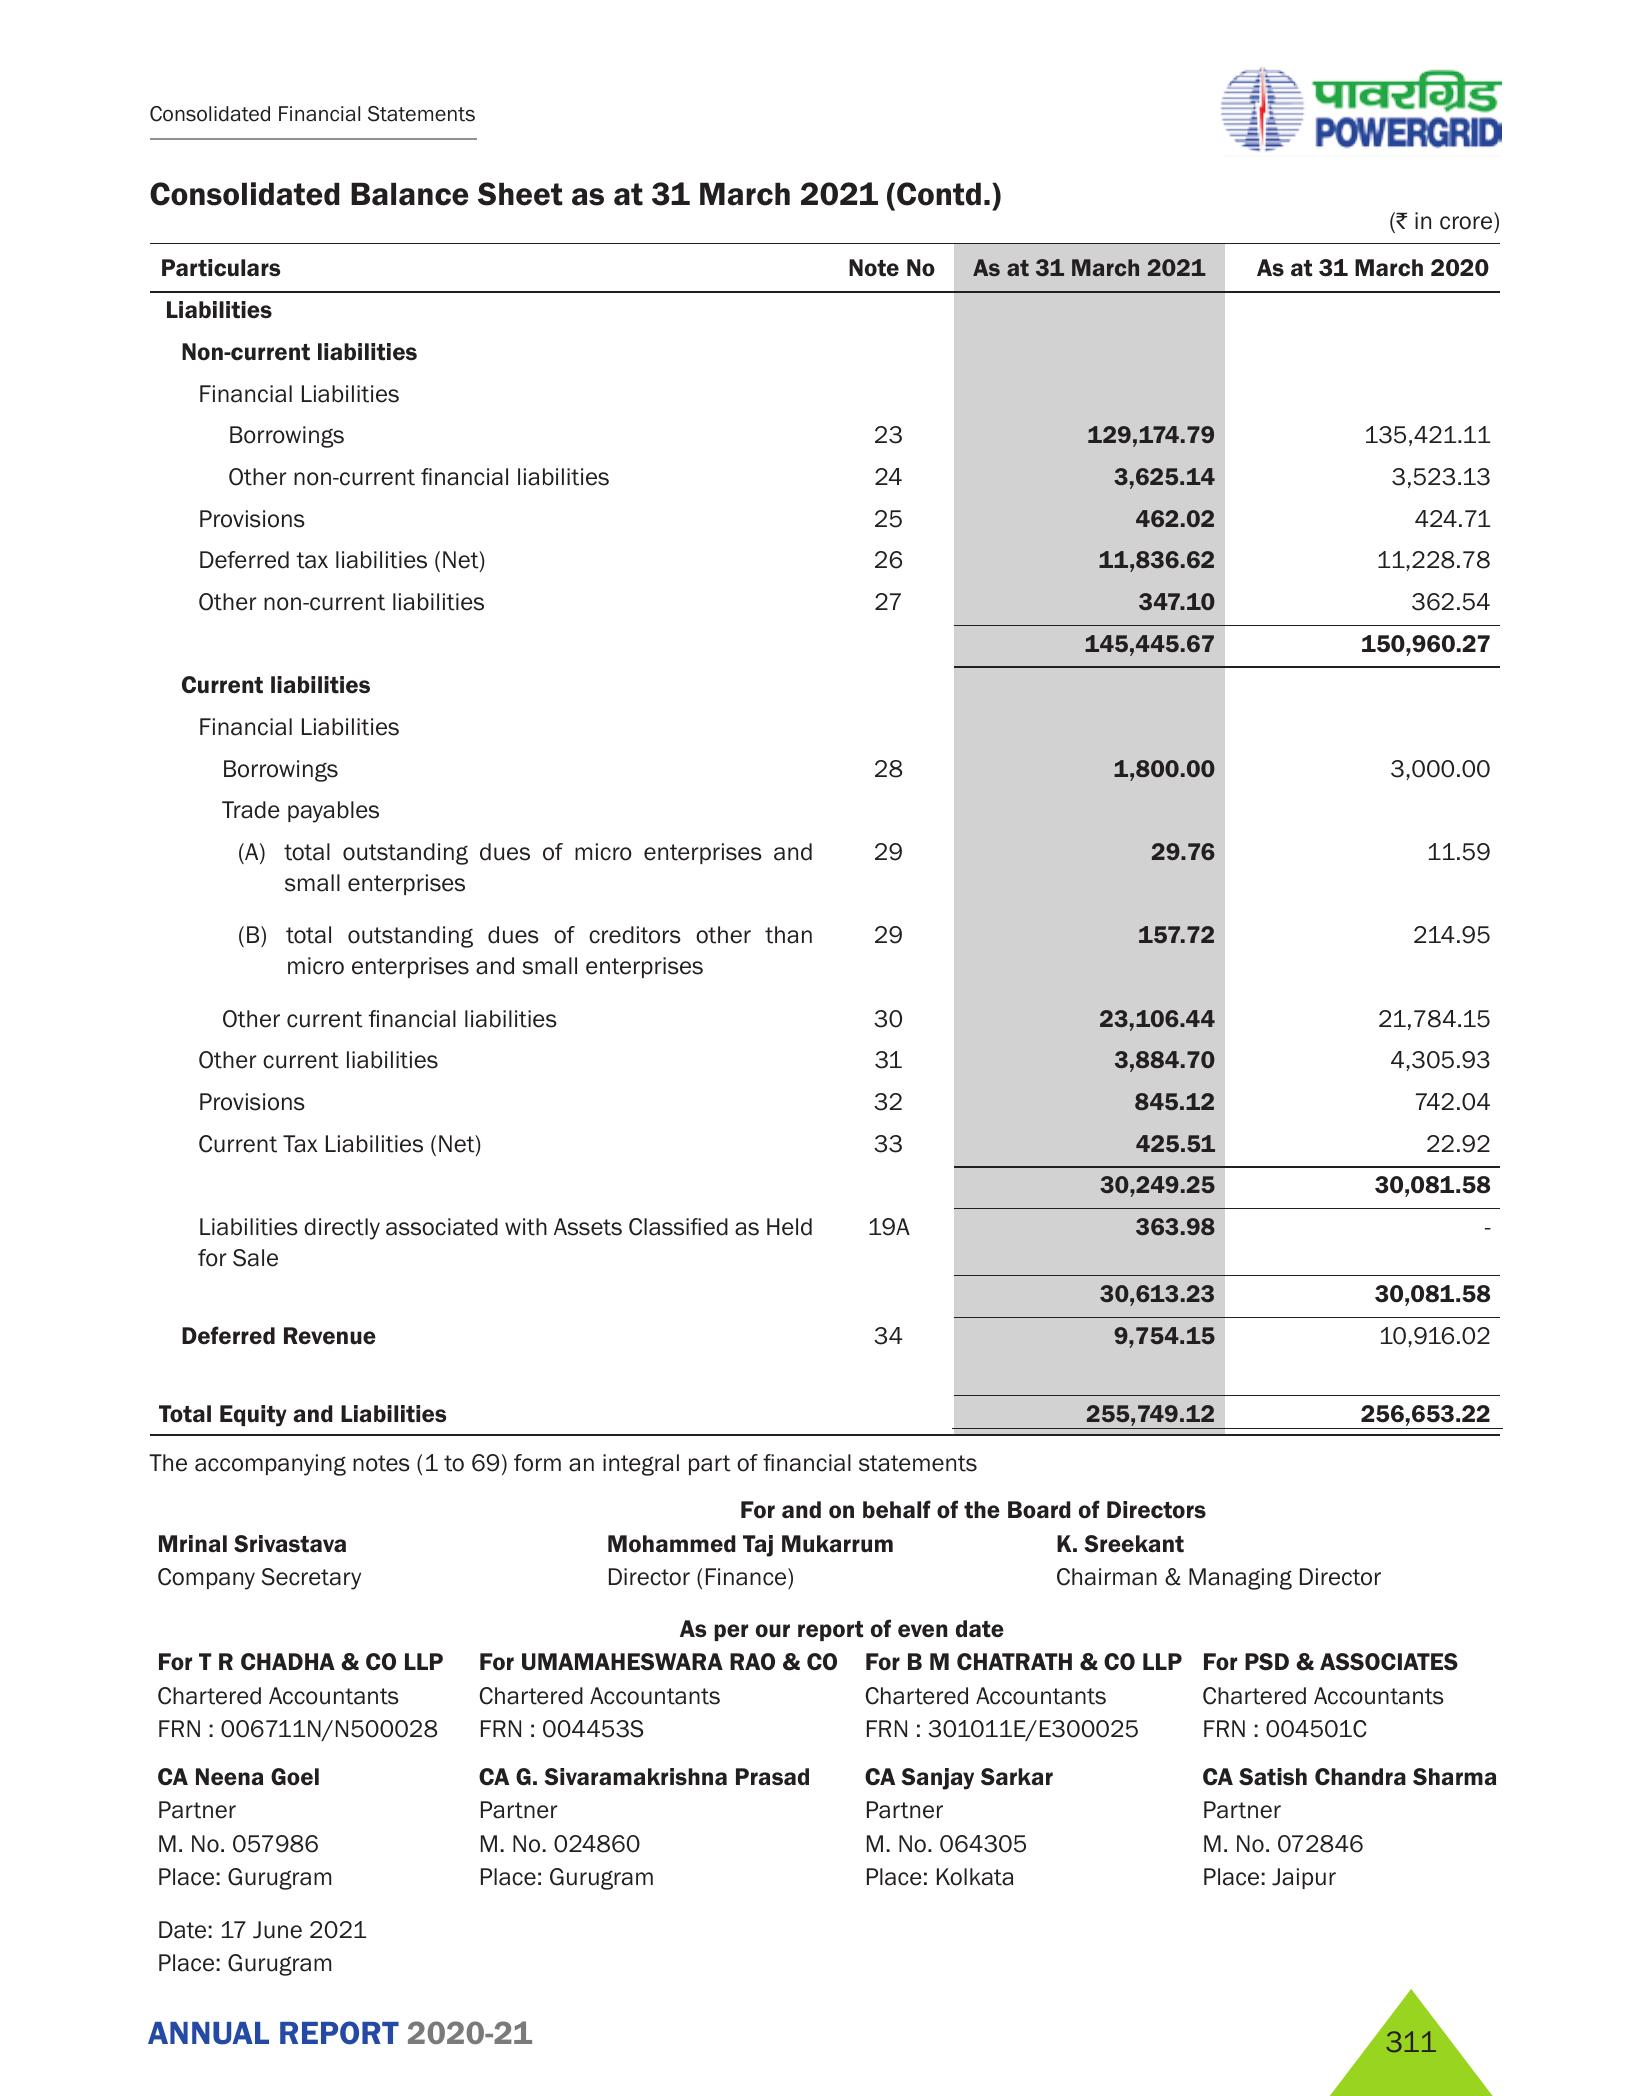Footer: (0, 1982, 1650, 2096)
Header: (0, 0, 1650, 163)
Table: (105, 236, 1524, 1434)
